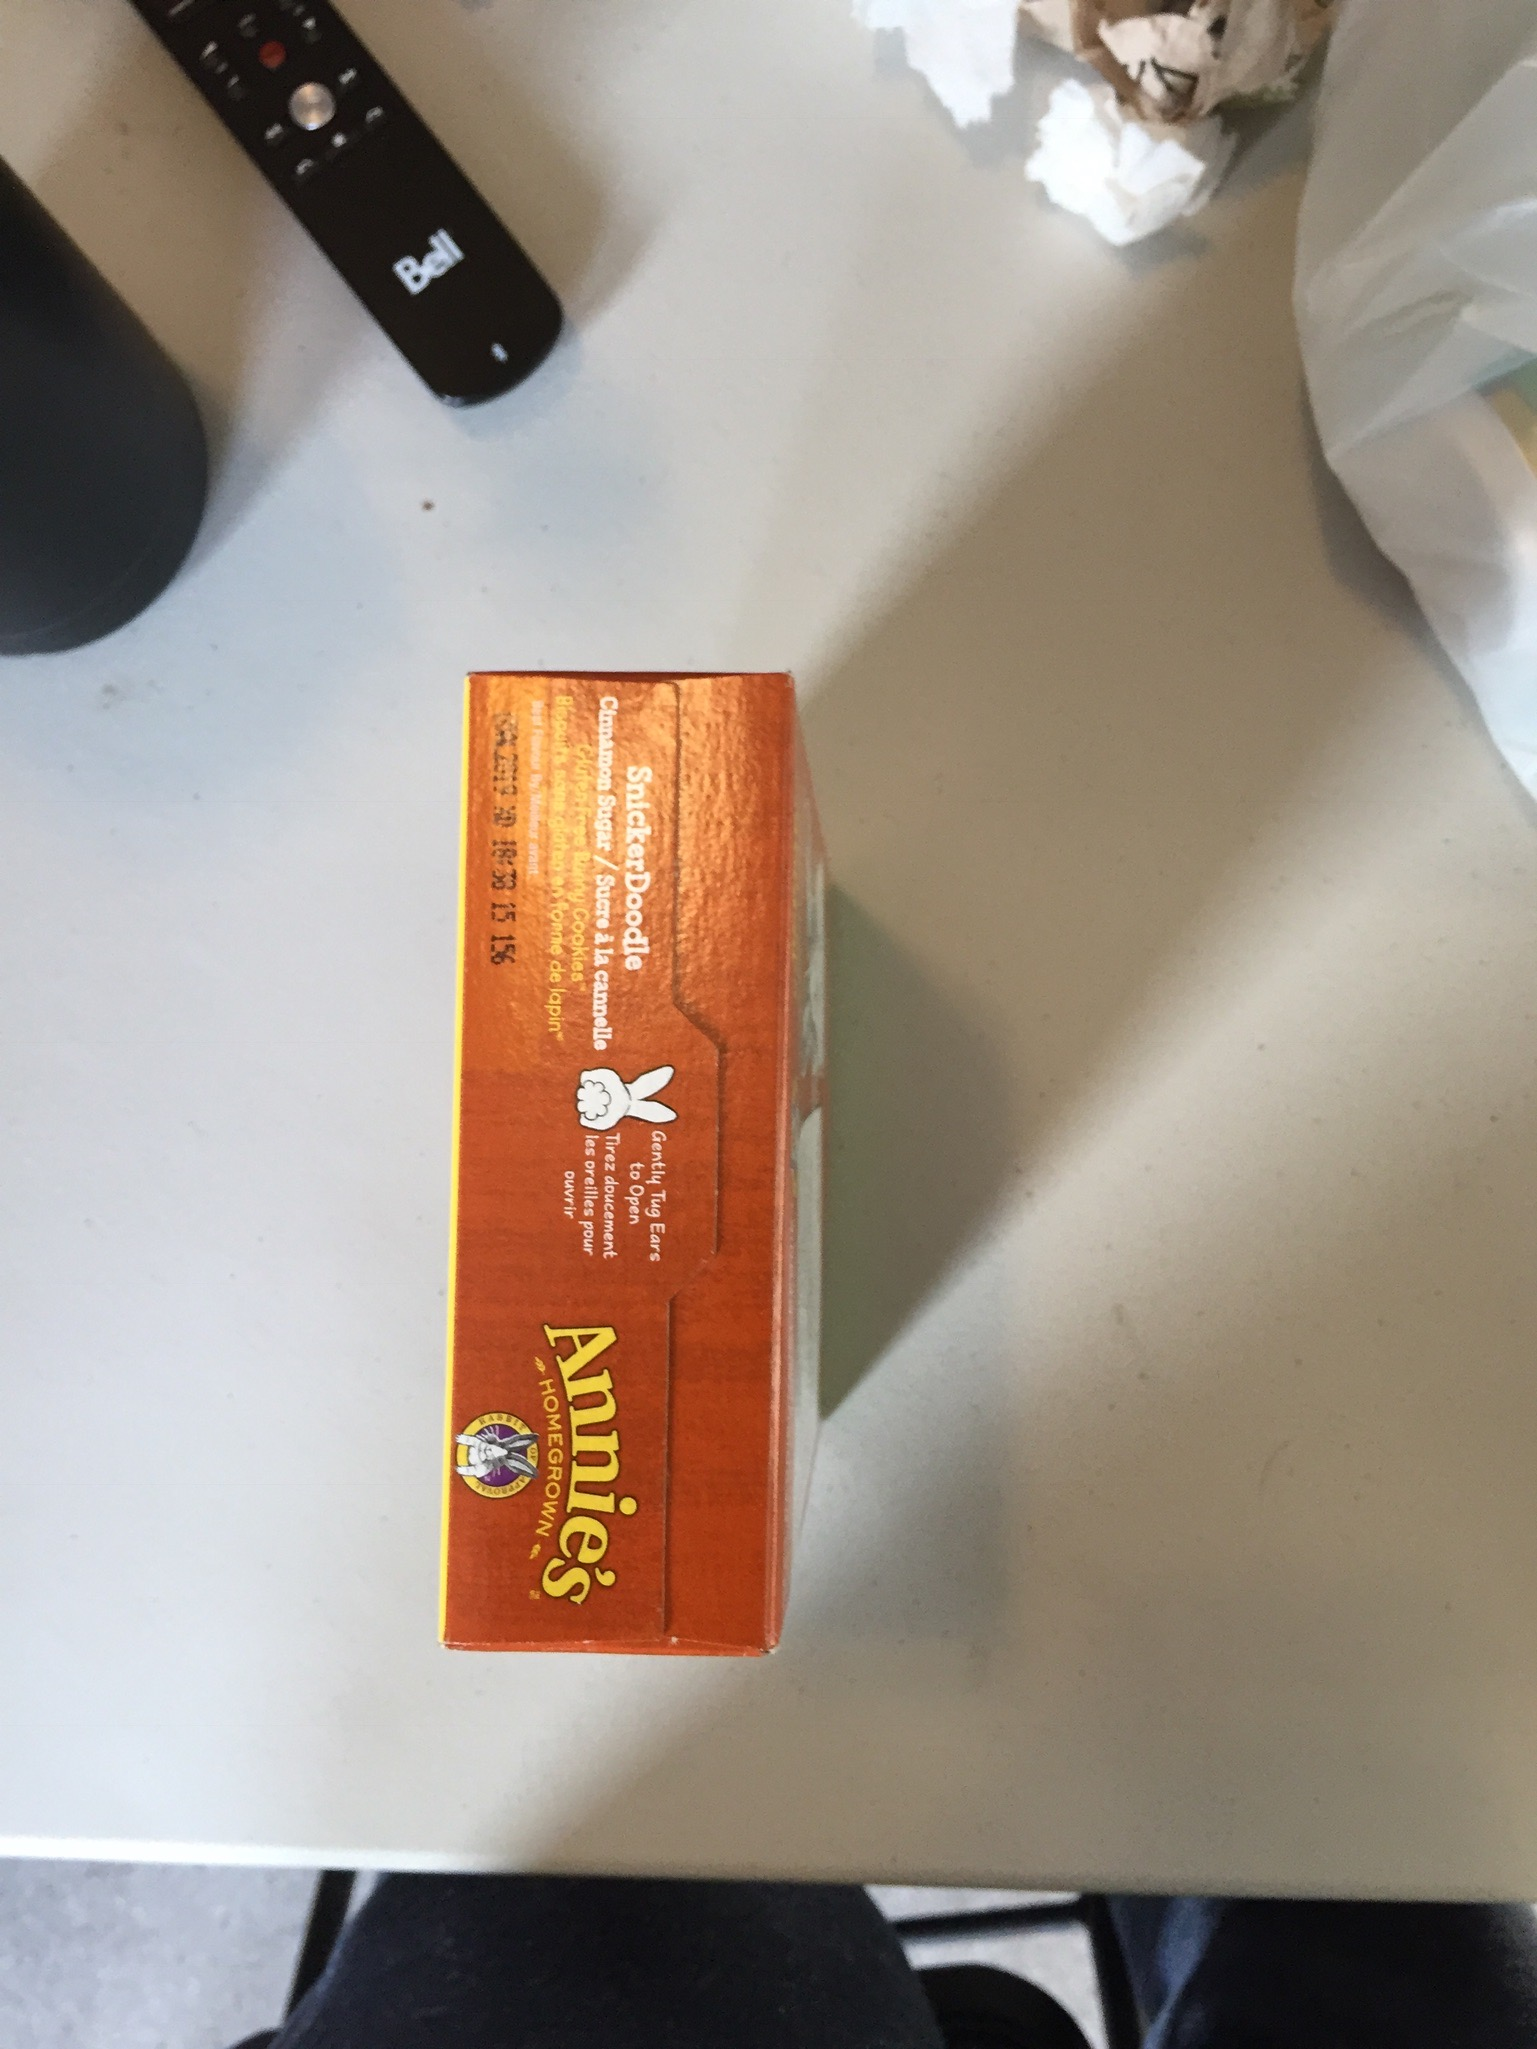annies_snickerdoodle_cinnamon_sugar: (471, 680, 780, 1632)
